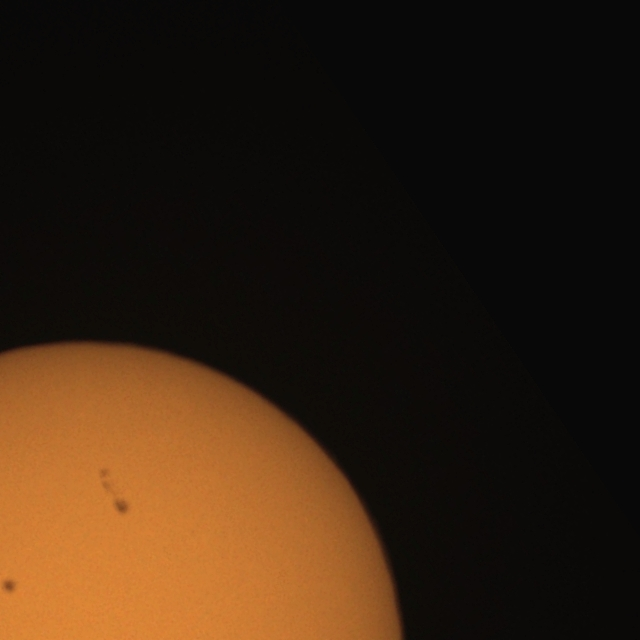sunspot: (112, 497, 131, 517), (0, 576, 18, 596), (97, 466, 112, 489)
